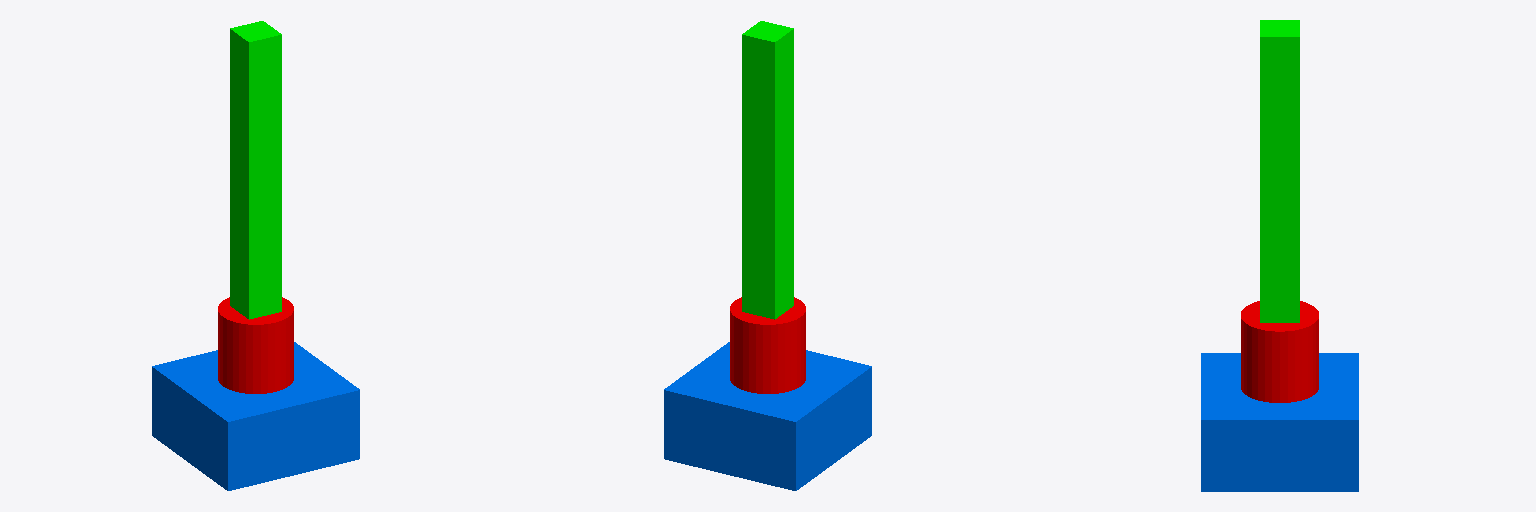
robot.urdf — simple_motor:
<?xml version="1.0"?>
<robot name="simple_motor">
  <link name="base_link">
    <visual>
      <geometry><box size="0.2 0.2 0.1"/></geometry>
      <material name="blue"><color rgba="0 0.5 1 1"/></material>
    </visual>
  </link>

  <link name="rotor_link">
    <visual>
      <geometry><cylinder radius="0.05" length="0.1"/></geometry>
      <material name="red"><color rgba="1 0 0 1"/></material>
    </visual>
  </link>

  <joint name="motor_joint" type="continuous">
    <parent link="base_link"/><child link="rotor_link"/>
    <origin xyz="0 0 0.1" rpy="0 0 0"/>
    <axis xyz="0 0 1"/>
  </joint>

  <link name="arm_link">
    <visual>
      <geometry><box size="0.05 0.05 0.4"/></geometry>
      <material name="green"><color rgba="0 1 0 1"/></material>
      <origin xyz="0 0 0.2" rpy="0 0 0"/>
    </visual>
  </link>

  <joint name="arm_fixed_joint" type="fixed">
    <parent link="rotor_link"/>
    <child link="arm_link"/>
    <origin xyz="0 0 0.05" rpy="0 0 0"/>
  </joint>

</robot>

--- Render facts (derived) ---
Views: 3 orthographic renders of the robot side by side, from view 1: azimuth 30°, elevation 25°; view 2: azimuth 150°, elevation 25°; view 3: azimuth 270°, elevation 25°.
Robot: simple_motor — 3 links, 2 joints (1 continuous, 1 fixed); root link base_link; default pose: every joint at zero.
Links seen in each view (by area): view 1: base_link, arm_link, rotor_link; view 2: base_link, arm_link, rotor_link; view 3: base_link, arm_link, rotor_link.
Boxes of the visible links, x1=… form: base_link: x1=152, y1=342, x2=359, y2=490; arm_link: x1=230, y1=21, x2=281, y2=319; rotor_link: x1=218, y1=297, x2=293, y2=393; base_link: x1=664, y1=342, x2=871, y2=490; arm_link: x1=742, y1=21, x2=793, y2=319; rotor_link: x1=730, y1=297, x2=805, y2=393; base_link: x1=1201, y1=353, x2=1358, y2=491; arm_link: x1=1260, y1=20, x2=1299, y2=322; rotor_link: x1=1241, y1=301, x2=1318, y2=402.
Size in the robot's own frame: 0.2 by 0.2 by 0.6 metres.
Geometry: primitives only (box / cylinder / sphere), no mesh files.
